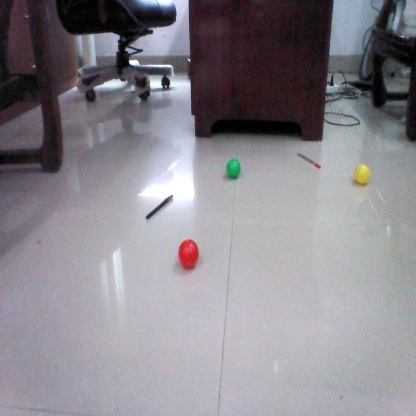ball: (176, 238, 203, 269), (349, 161, 373, 187), (222, 156, 246, 181)
pen: (146, 192, 175, 220), (297, 153, 322, 168)
